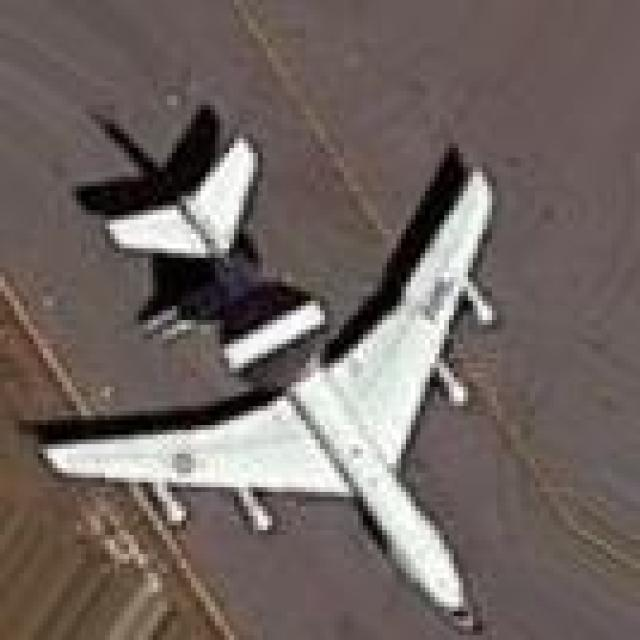E-3_TopDown: (0, 95, 501, 625)
